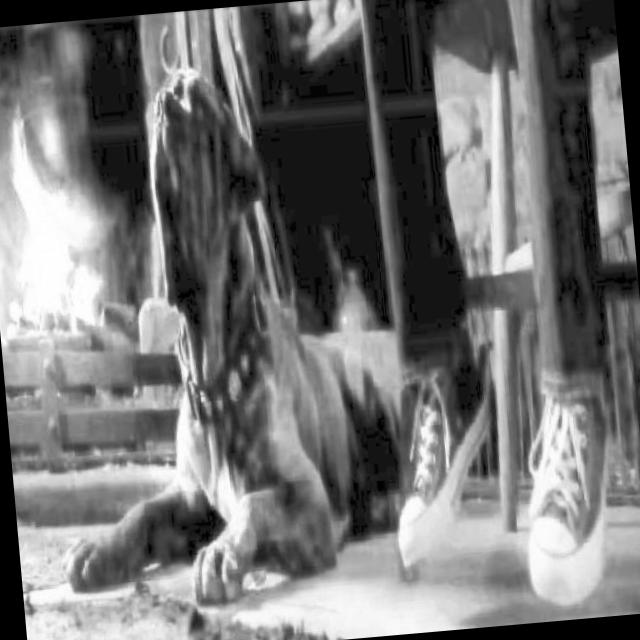Dog: (14, 41, 395, 626)
